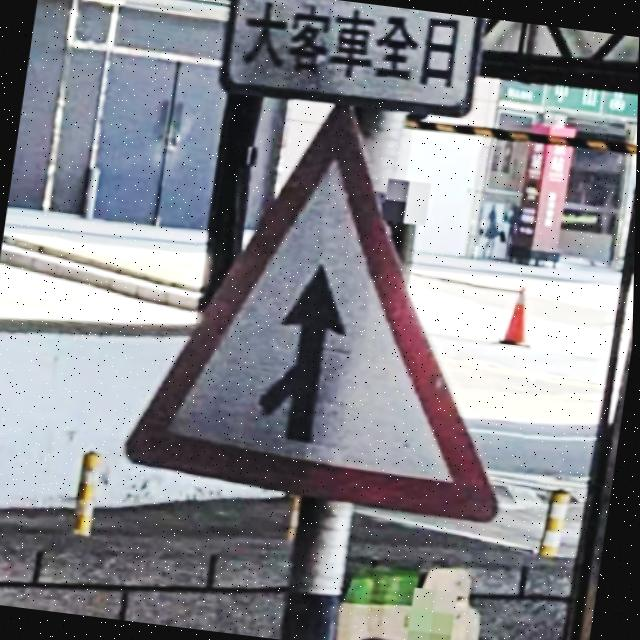leftmerge: (126, 107, 501, 523)
